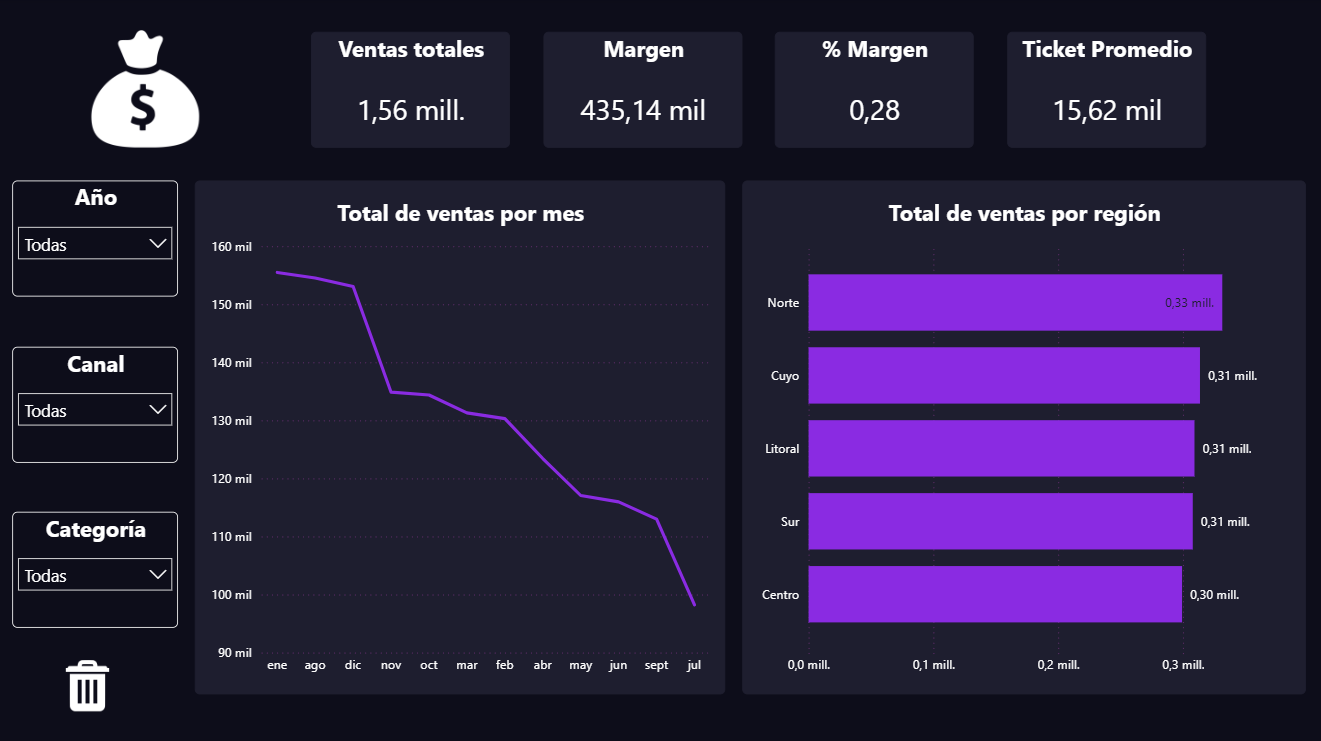

This screenshot's page, from the dashboard's own definition file:
{"tool":"powerbi","page":{"name":"Visión General","canvas":[1280,720],"ordinal":0},"visuals":[{"type":"card","title":"Ventas totales","fields":{"Values":["Ventas.Total Ventas"]},"box":[304,32,192,112],"z":0},{"type":"slicer","title":"Año","fields":{"Values":["Calendario_Ventas.Año"]},"box":[16,176,160,112],"z":1000},{"type":"slicer","title":"Categoría","fields":{"Values":["Productos.Categoria"]},"box":[16,496,160,112],"z":2000},{"type":"slicer","title":"Canal","fields":{"Values":["Ventas.Canal"]},"box":[16,336,160,112],"z":3000},{"type":"lineChart","title":"Total de ventas por mes","fields":{"Category":["Calendario.Mes"],"Y":["Ventas.Total Ventas"]},"box":[192,176,512,496],"z":4000},{"type":"barChart","title":"Total de ventas por región","fields":{"Category":["Ventas.Region"],"Y":["Ventas.Total Ventas"]},"box":[720,176,544,496],"z":5000},{"type":"card","title":"Margen","fields":{"Values":["Ventas.Margen Total"]},"box":[528,32,192,112],"z":6000},{"type":"card","title":"Ticket Promedio","fields":{"Values":["Ventas.Ticket Promedio"]},"box":[976,32,192,112],"z":7000},{"type":"card","title":"% Margen","fields":{"Values":["Ventas.% Margen"]},"box":[752,32,192,112],"z":8000},{"type":"image","box":[64,16,160,144],"z":9000},{"type":"image","box":[48,624,80,80],"z":9001}]}

Visuals, with their boxes in screenshot pixels (x1, y1, x2, y2), scaled from the page's 1280x720 canvas onto the 1321x741 screenshot:
"Ventas totales" card: crop(314, 33, 512, 148)
"Año" slicer: crop(17, 181, 182, 296)
"Categoría" slicer: crop(17, 510, 182, 626)
"Canal" slicer: crop(17, 346, 182, 461)
"Total de ventas por mes" lineChart: crop(198, 181, 727, 692)
"Total de ventas por región" barChart: crop(743, 181, 1304, 692)
"Margen" card: crop(545, 33, 743, 148)
"Ticket Promedio" card: crop(1007, 33, 1205, 148)
"% Margen" card: crop(776, 33, 974, 148)
image: crop(66, 16, 231, 165)
image: crop(50, 642, 132, 725)
